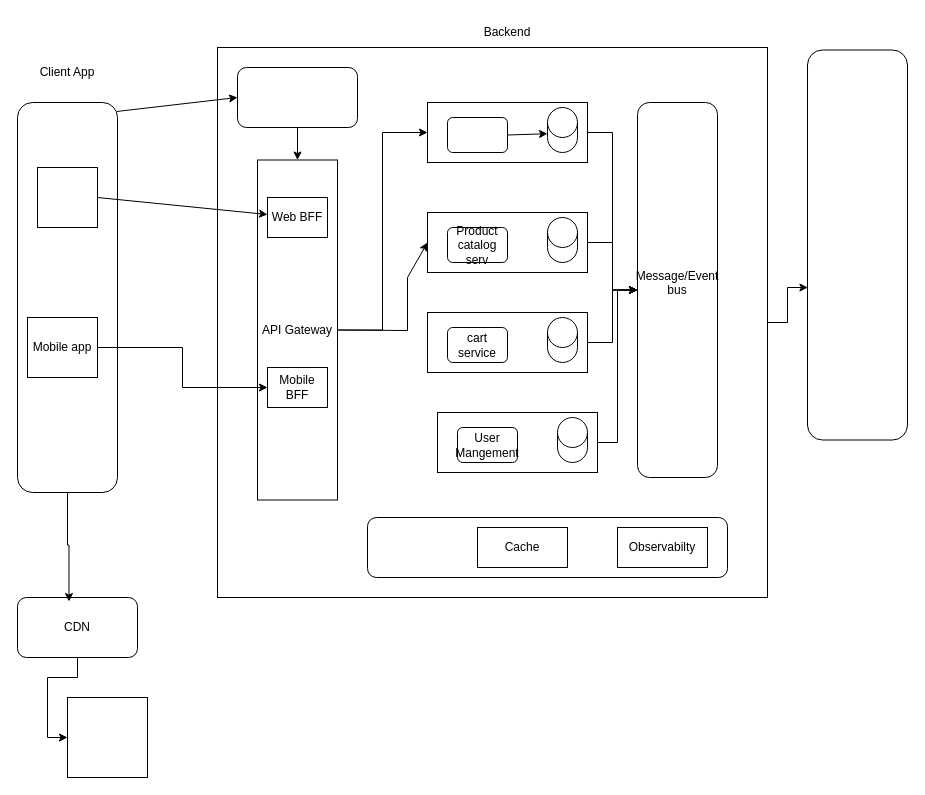
This 925x795 diagram has some shape labels left out. Each missing label, with the centre of its shape:
3rd party integrations or external APIs: (857,244)
IAM: (297,97)
Order services: (477,134)
Static Contents: (107,737)
Web: (67,197)
